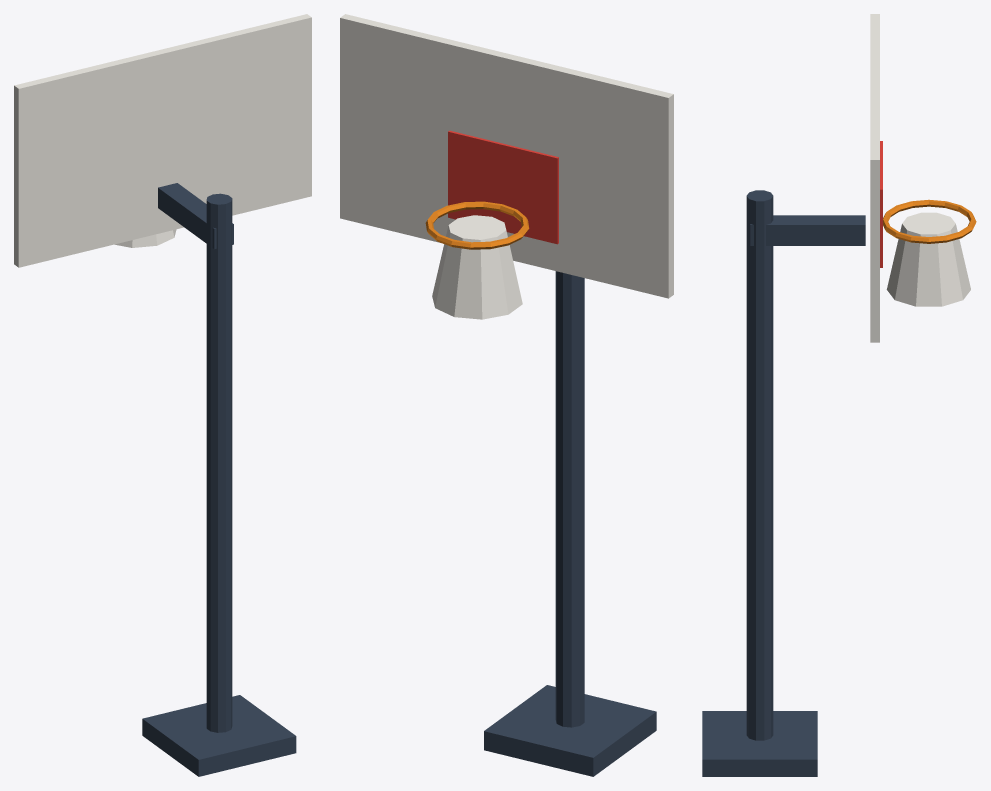
The model's file is sport_hoop.glb.
The picture shows the model from 3 angles, left to right: view 1: azimuth 30°, elevation 25°; view 2: azimuth 150°, elevation 25°; view 3: azimuth 270°, elevation 25°; orthographic projection. The views are drawn at different scales.
Parts seen in each view (by area): view 1: Cone, Cube; view 2: Cone, Cube, Cube.002, Torus; view 3: Cube, Cone, Torus.
Part boxes in pixels (box(x1,y1,x2,y2)): Cone: box(14, 14, 311, 267); Cube: box(142, 183, 296, 776); Cone: box(340, 14, 673, 319); Cube: box(484, 271, 656, 776); Cube.002: box(448, 130, 558, 244); Torus: box(425, 201, 529, 249); Cube: box(702, 190, 865, 776); Cone: box(870, 14, 970, 342); Torus: box(883, 199, 976, 243).
Size of the model in its own units: 1.8 by 3.82 by 1.43.
